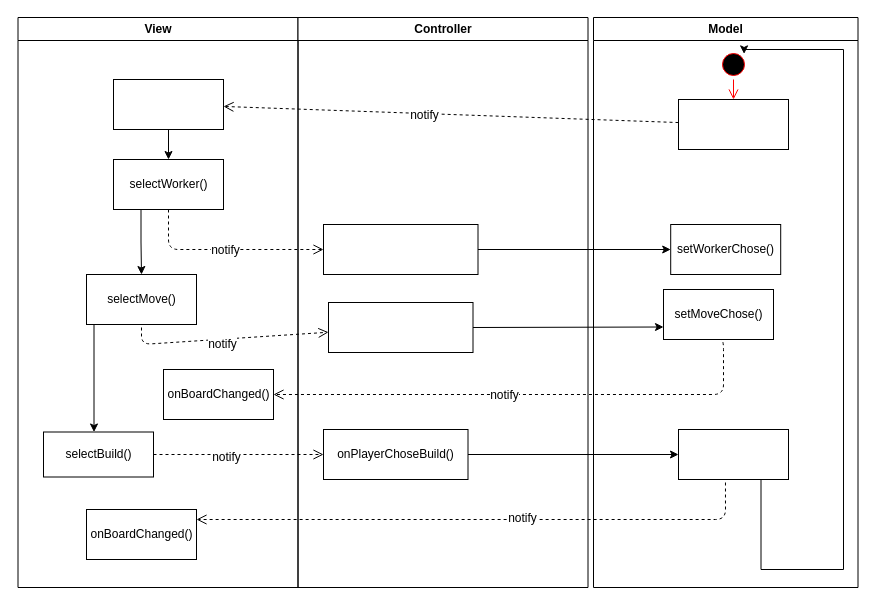
The diagram is 875 pixels wide and 605 high, and some of its shapes have lost their labels. Here are the shapes that lost their labels. From the top down, the centre of each, then its label:
At (x=168, y=104): "onTurnChanged()".
At (x=733, y=124): "nextTurn()".
At (x=400, y=249): "onPlayerChoseWorker()".
At (x=400, y=327): "onPlayerChoseMove()".
At (x=733, y=454): "setBuildChose()".
